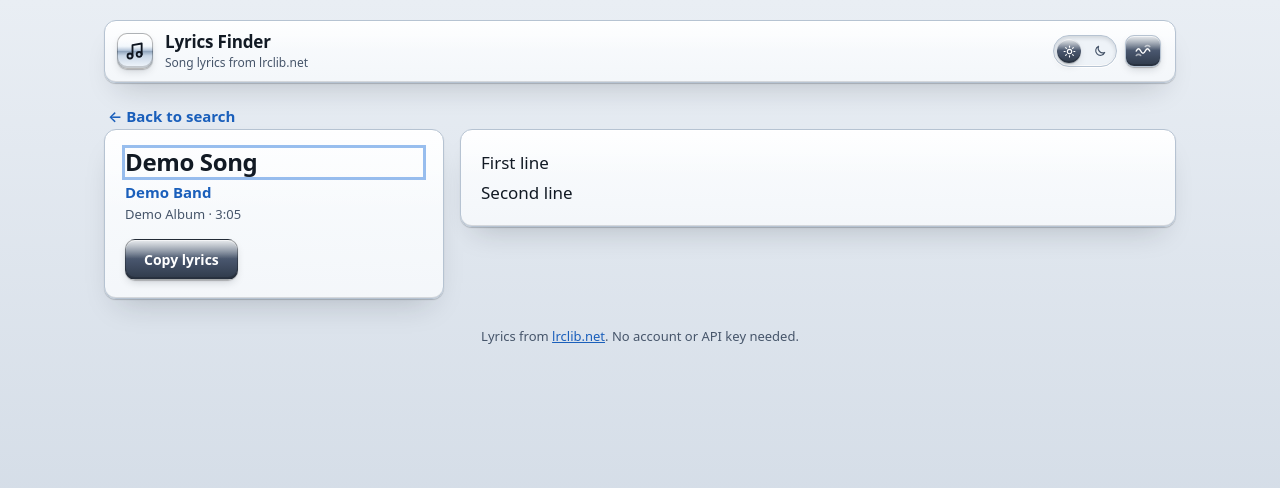
Test: lyrics page › announces a failed copy instead of failing silently
What coordinates should you click on to do the following:
click the button "Copy lyrics"
I would click on:
 (181, 259)
Its box is left=125, top=239, right=238, bottom=280.
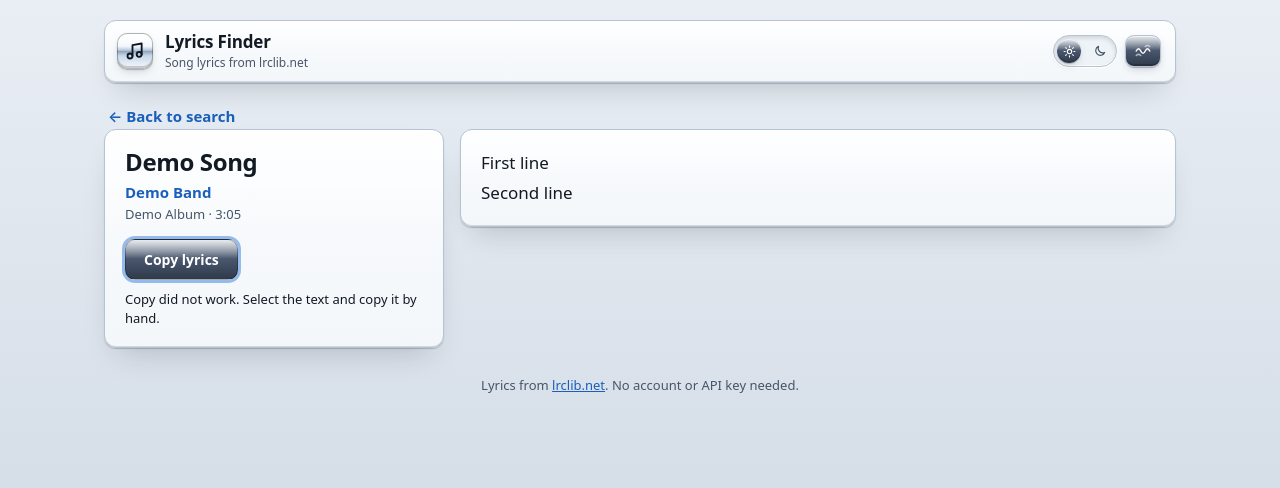
Result: the text "Copy did not work. Select the text and copy it by hand." is shown at left=125, top=290, right=423, bottom=329
